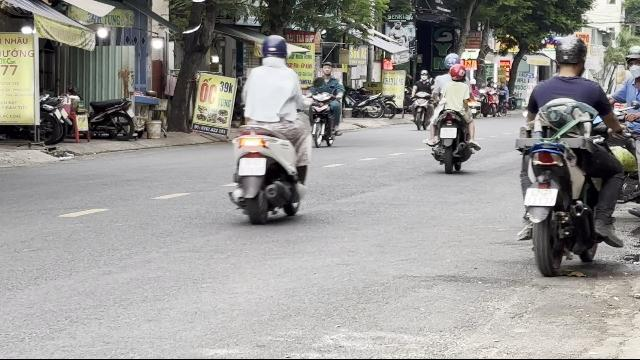helmet: (552, 34, 588, 76), (259, 33, 289, 64), (444, 53, 462, 69), (449, 65, 466, 81)
licenseplate: (524, 188, 556, 206), (238, 158, 266, 176), (440, 126, 456, 138)
motorcyclist: (511, 35, 627, 276), (228, 34, 314, 224), (425, 52, 481, 172)
